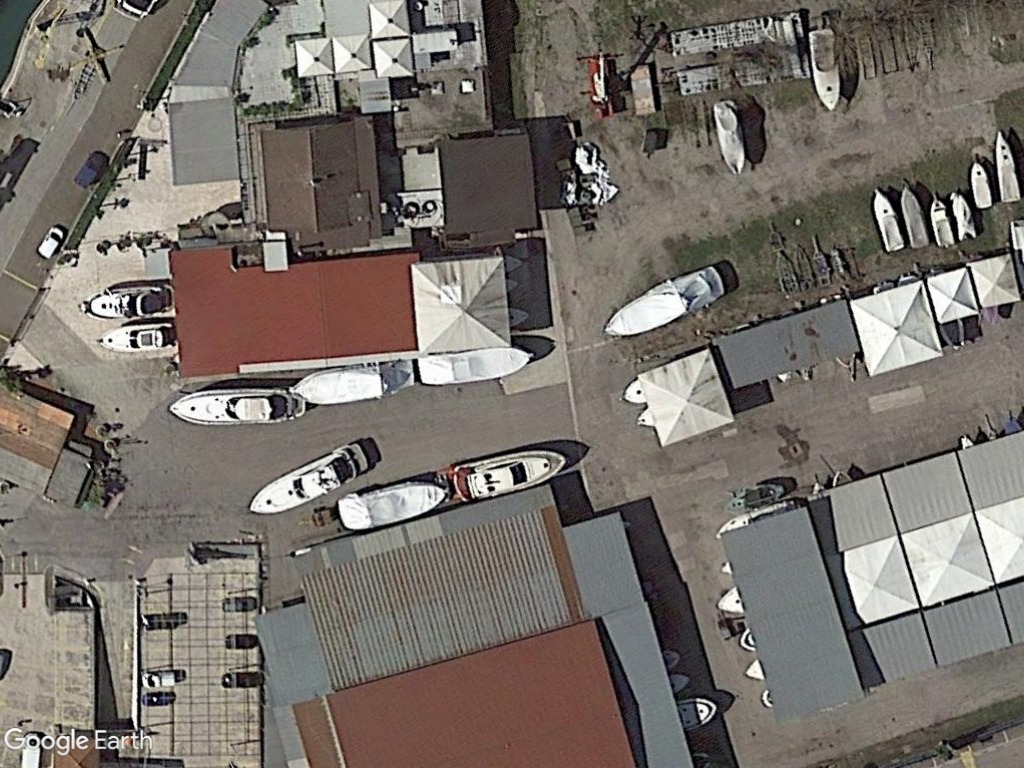boat: (602, 258, 732, 346), (246, 438, 372, 523), (334, 468, 451, 538), (448, 442, 575, 506), (165, 385, 312, 427), (76, 283, 179, 321), (708, 96, 753, 178), (806, 25, 844, 115), (865, 182, 905, 256), (94, 323, 180, 357), (990, 127, 1022, 205), (900, 178, 932, 253), (930, 189, 958, 253), (964, 157, 996, 213), (947, 189, 979, 244)
van: (31, 225, 68, 263)
